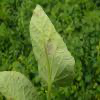Tomato leaf late blight: (28, 2, 78, 94)
